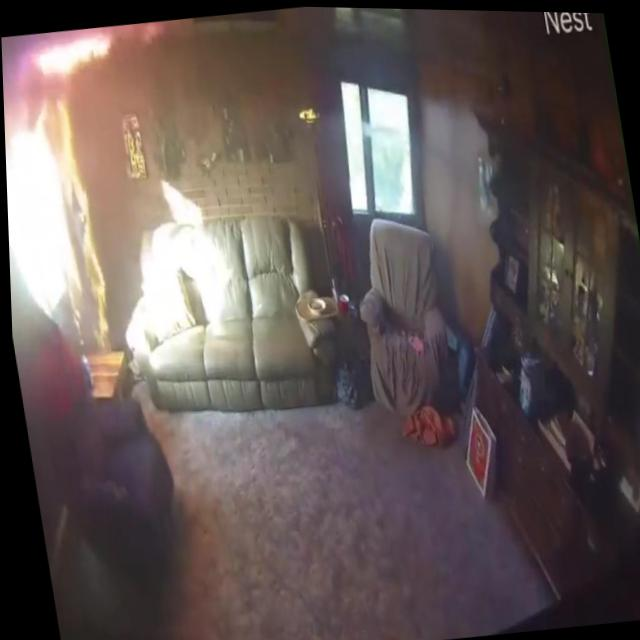fire: (17, 81, 116, 354), (14, 23, 118, 85)
